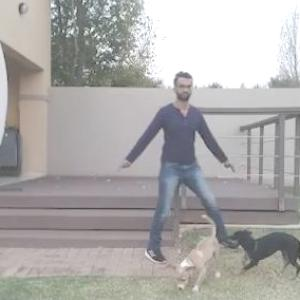land: (113, 86, 222, 264)
